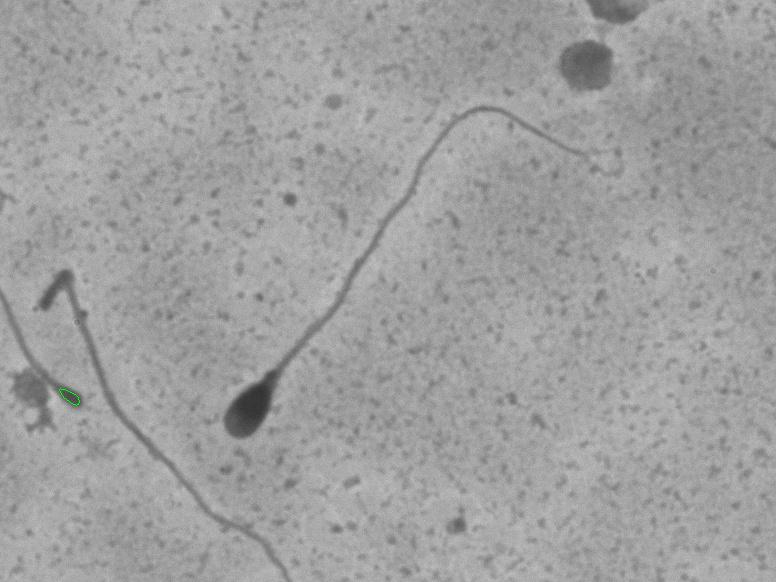Normal: (210, 101, 627, 463)
